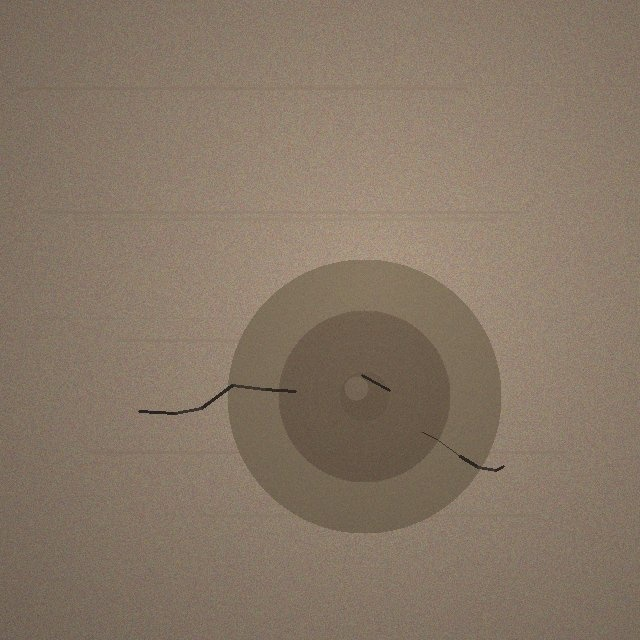crack: (227, 259, 501, 533)
